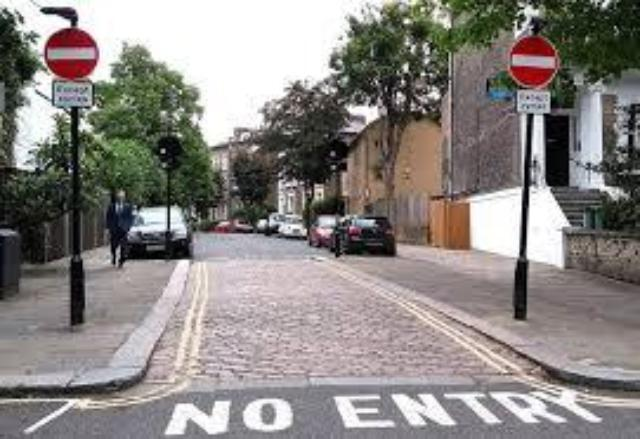B2: (508, 34, 558, 90), (46, 26, 98, 78)
